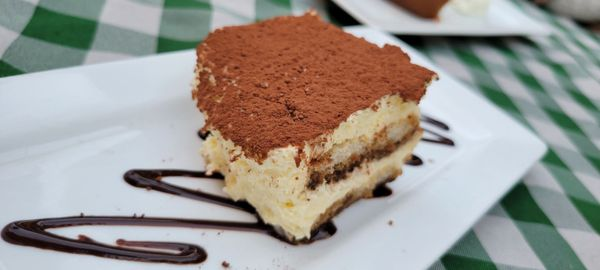burger: (126, 166, 351, 245)
